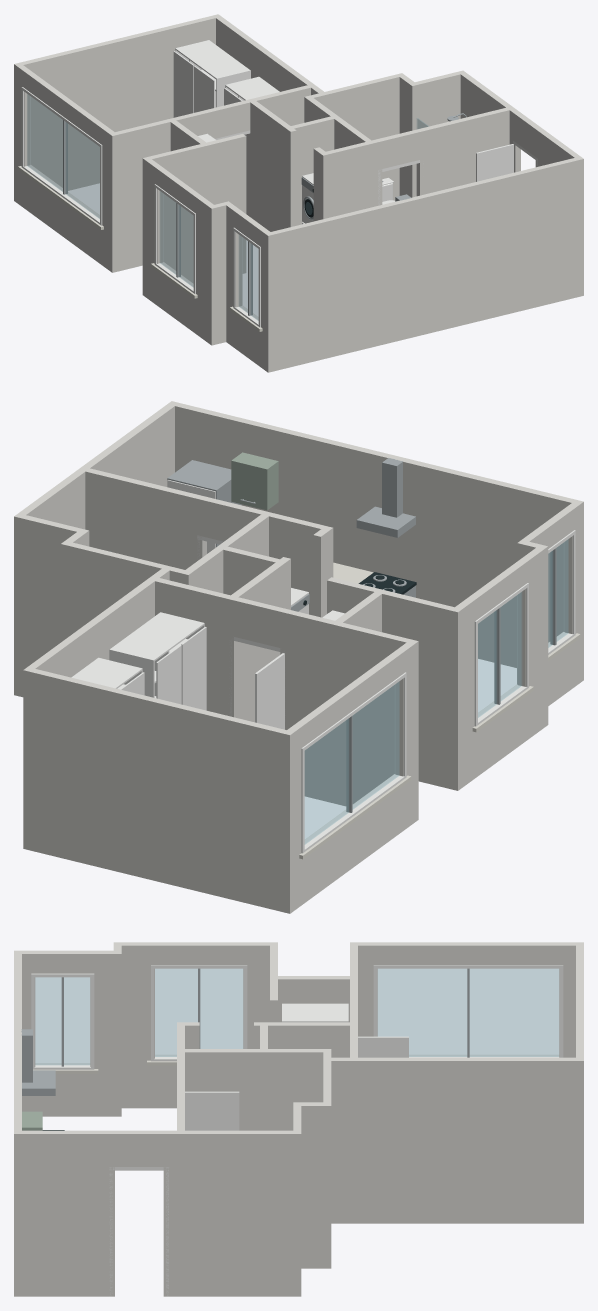
File: spera-architecture.glb
3 renders of one model, top to bottom at view 1: azimuth 30°, elevation 25°; view 2: azimuth 150°, elevation 25°; view 3: azimuth 270°, elevation 25°, orthographic. The views are drawn at different scales.
Parts seen in each view (by area): view 1: Wall (×32), Window glazing (×3), Wall above doorway (×3), Closet cap (×2), Closet door (×2), Painted door leaf, Window rail, Closet side; view 2: Wall (×29), Window glazing (×3), Wall above doorway (×3), Closet cap (×2), Closet door (×2), Upper kitchen cabinet, Window mullion (×3), Painted door leaf, Refrigerator body, Window rail, Hood chimney, Range hood (+2 smaller); view 3: Wall (×27), Window glazing (×3), Painted door leaf (×2), Wall above doorway, Window rail (×2), Closet cap, Range hood, Hood chimney.
Part boxes in pixels (x1,y1,x2,y2): Wall (×32): (14, 14, 583, 372); Window glazing (×3): (27, 94, 258, 320); Wall above doorway (×3): (206, 99, 540, 168); Closet cap (×2): (175, 40, 279, 100); Closet door (×2): (173, 51, 214, 117); Painted door leaf: (476, 144, 513, 181); Window rail: (21, 165, 102, 225); Closet side: (216, 70, 250, 107); Wall (×29): (14, 401, 583, 913); Window glazing (×3): (305, 539, 568, 844); Wall above doorway (×3): (87, 438, 288, 648); Closet cap (×2): (73, 613, 203, 688); Closet door (×2): (156, 627, 206, 710); Upper kitchen cabinet: (231, 452, 278, 510); Window mullion (×3): (346, 548, 556, 812); Painted door leaf: (255, 653, 284, 729); Refrigerator body: (167, 460, 241, 547); Window rail: (301, 774, 406, 853); Hood chimney: (382, 458, 402, 517); Range hood: (356, 506, 415, 537); Wall (×27): (14, 942, 583, 1296); Window glazing (×3): (35, 969, 558, 1064); Painted door leaf (×2): (185, 1036, 408, 1130); Wall above doorway: (107, 1130, 171, 1166); Window rail (×2): (373, 965, 563, 1057); Closet cap: (283, 1003, 346, 1022); Range hood: (22, 1070, 55, 1095); Hood chimney: (21, 1029, 32, 1082).
Bounding box in the file's own units: 6.88 × 2.7 × 8.57.
